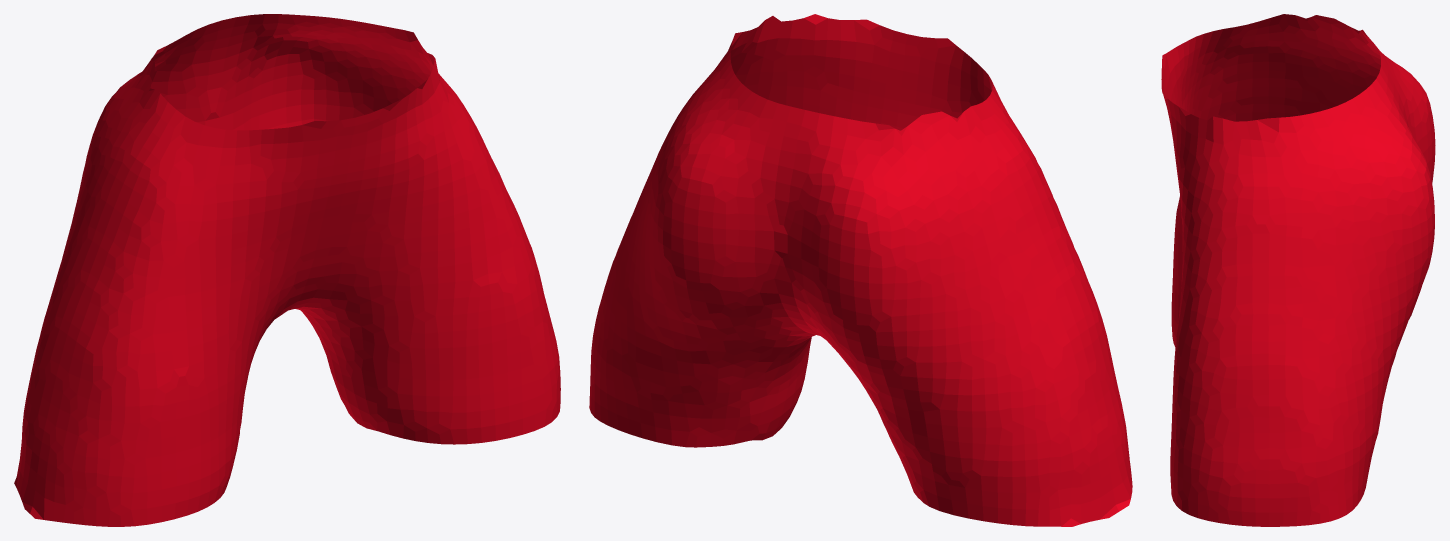
The model's file is human_1_shorts.fbx.
The picture shows the model from 3 angles, left to right: view 1: azimuth 30°, elevation 25°; view 2: azimuth 150°, elevation 25°; view 3: azimuth 270°, elevation 25°; orthographic projection. The views are drawn at different scales.
Parts seen in each view (by area): view 1: Body.001; view 2: Body.001; view 3: Body.001.
Part boxes in pixels (<box>): Body.001: <box>14,14,560,526</box>; Body.001: <box>589,14,1132,526</box>; Body.001: <box>1161,14,1435,526</box>.
Bounding box in the file's own units: 50.09 × 36.1 × 24.86.
